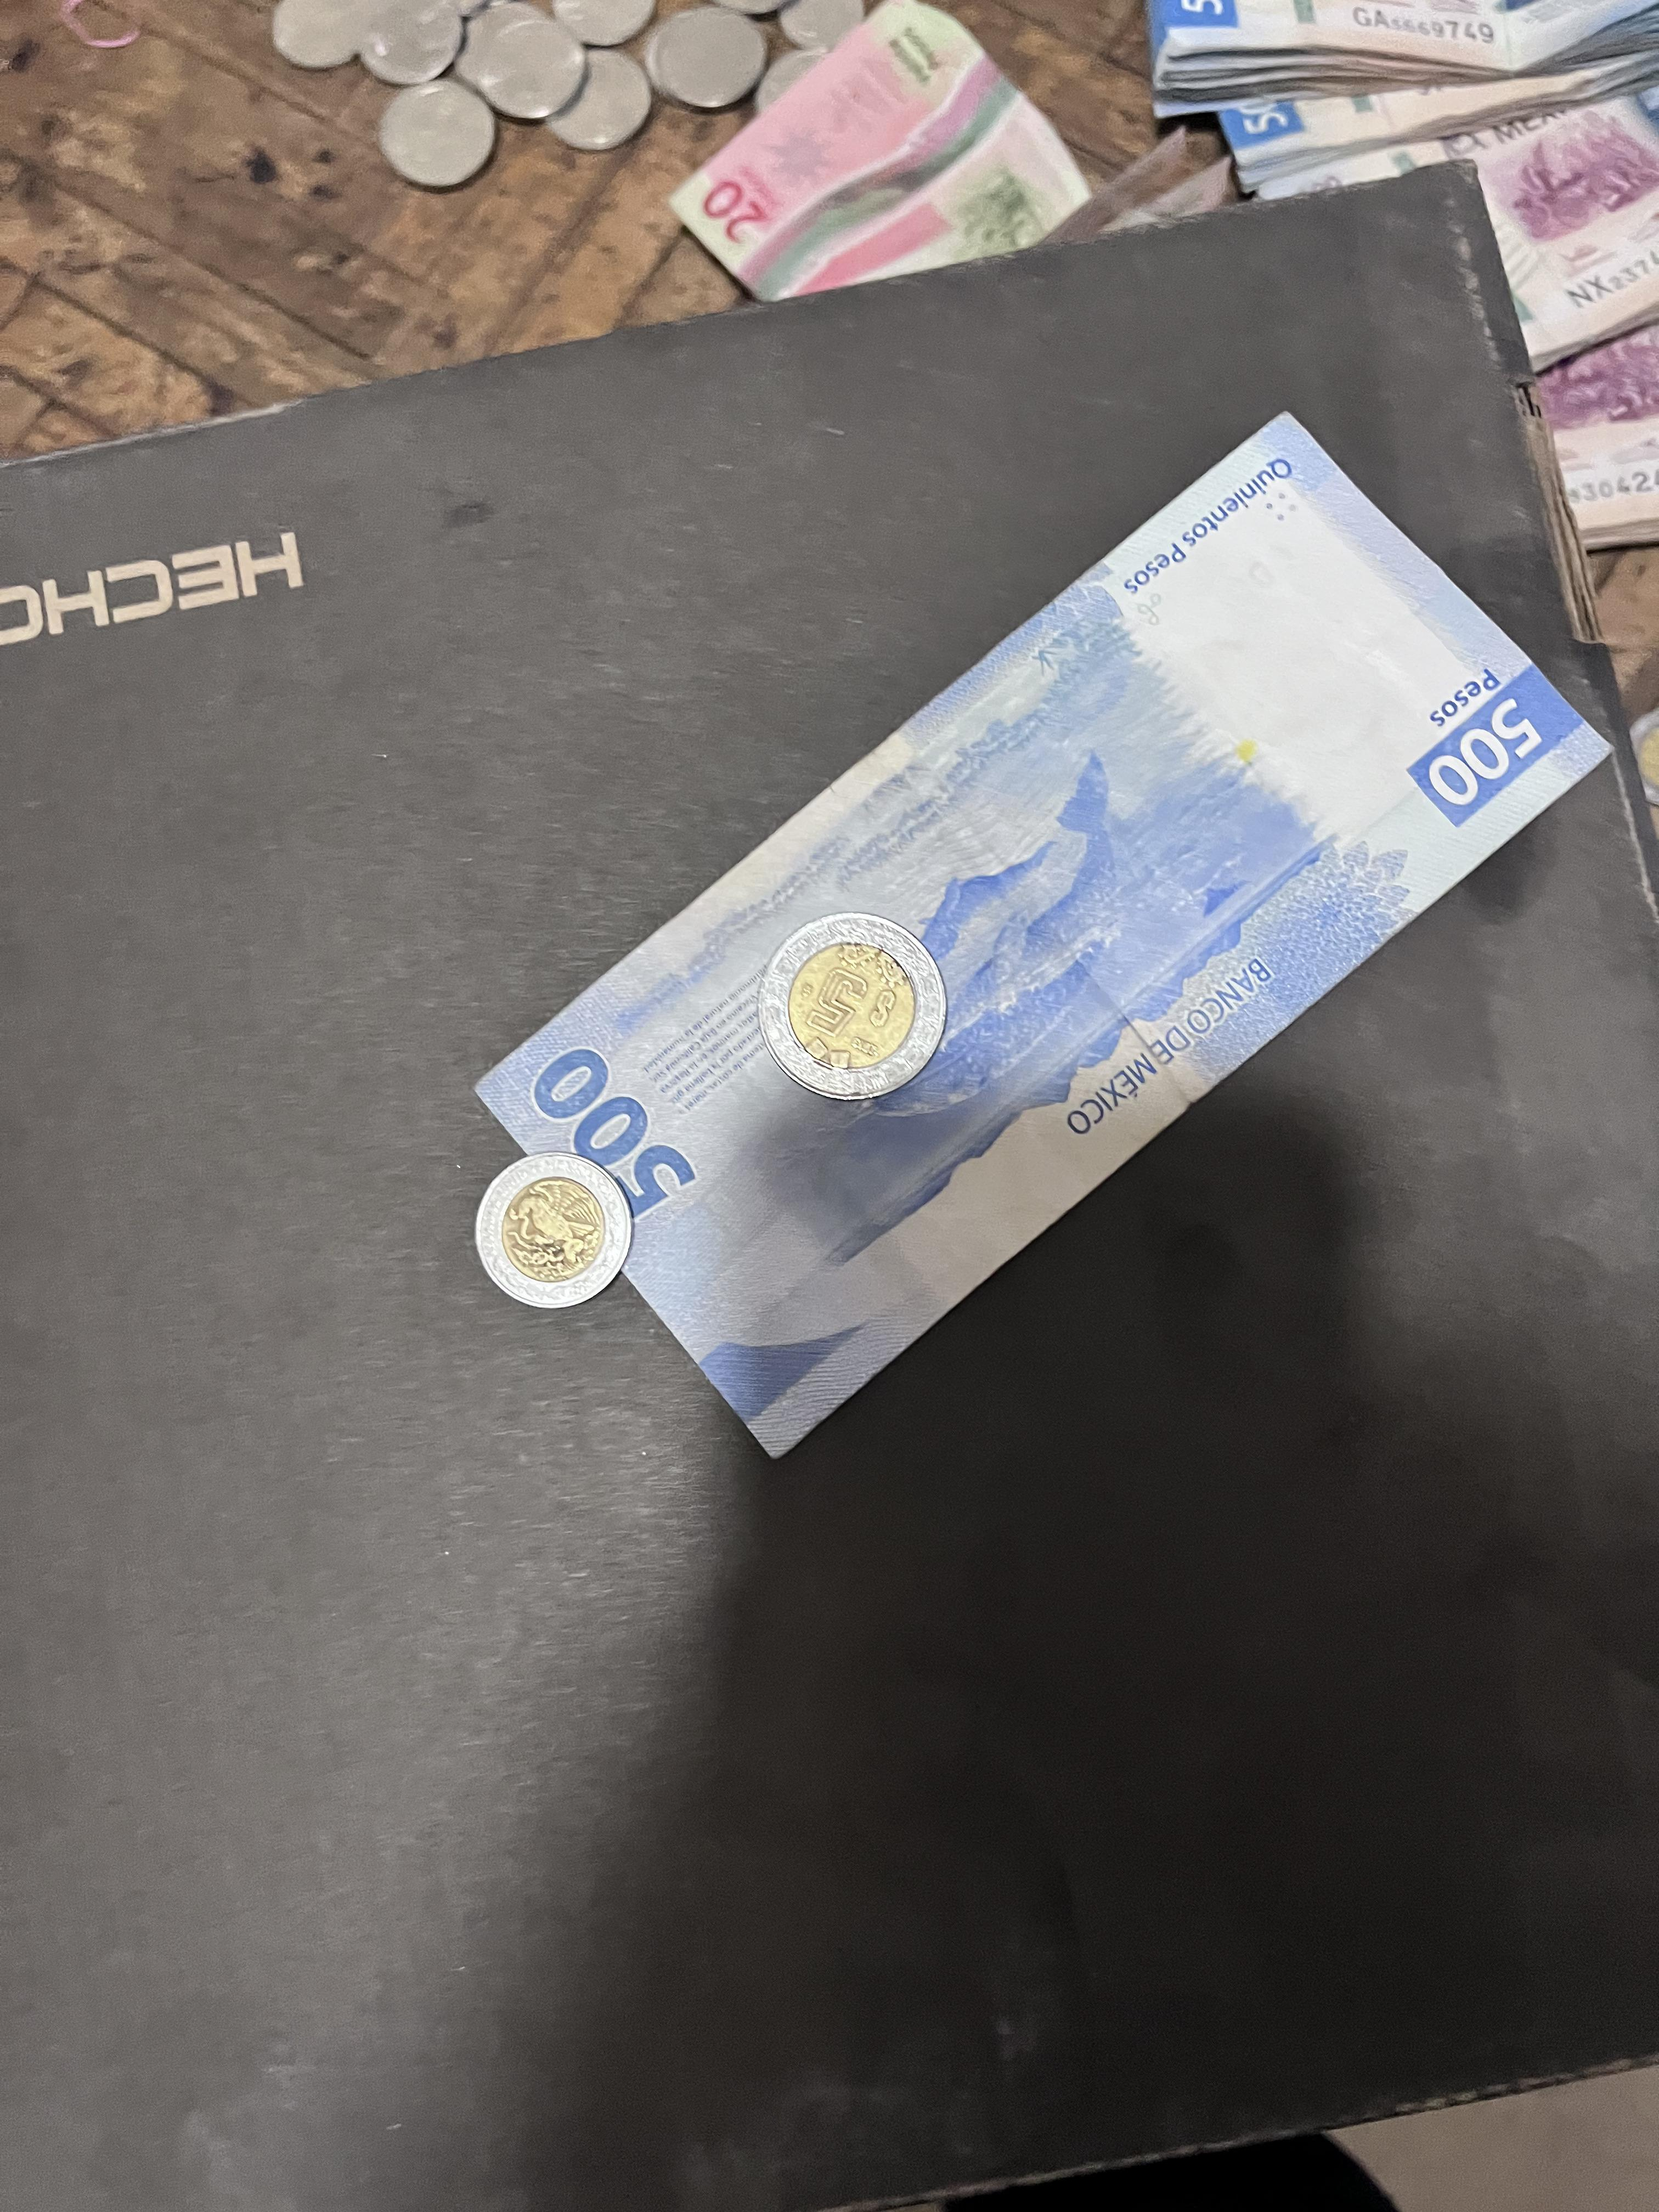1: (464, 1146, 645, 1324)
20: (631, 14, 1161, 310)
5: (755, 892, 971, 1120)
500 nuevo: (324, 381, 1659, 1527)
